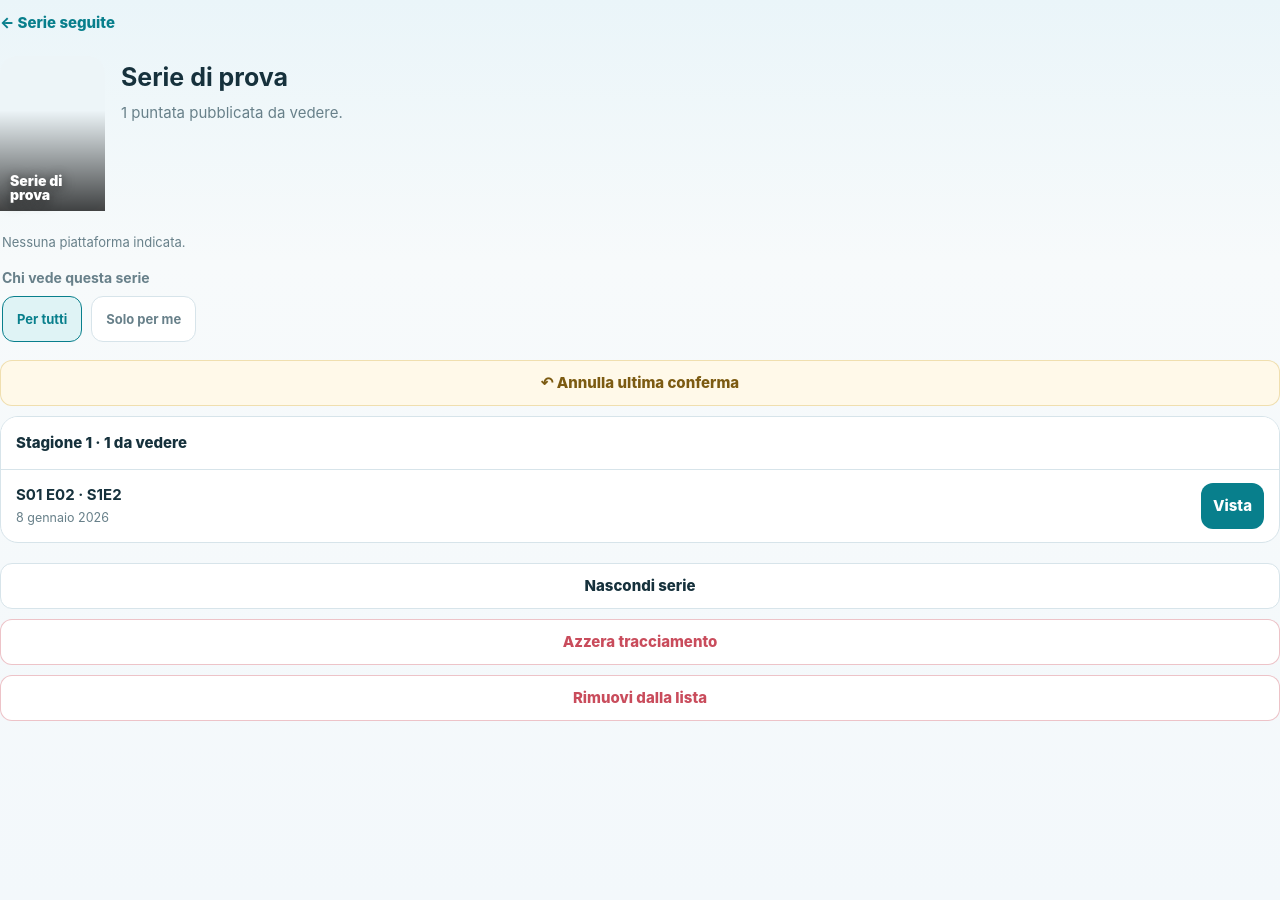
Test: ShowDetailView — conflitto di revisione sull'undo › mostra nel toast la reason del dominio, senza reinventare un messaggio
Click the button with class "undo" at coordinates (640, 383), box [0,360,1279,406]
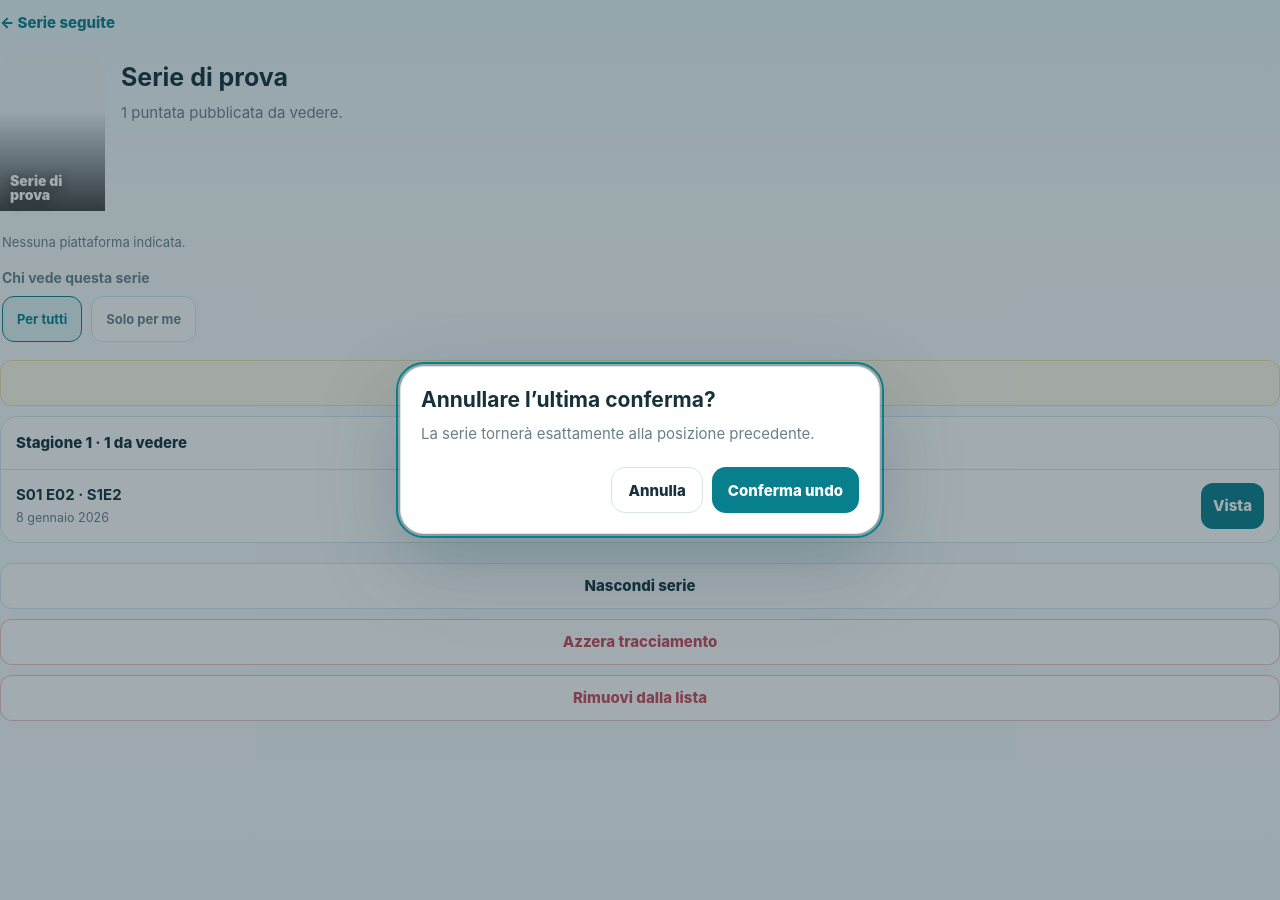
Click the button with class "accept-confirm" at coordinates (785, 490), box [712,468,859,514]
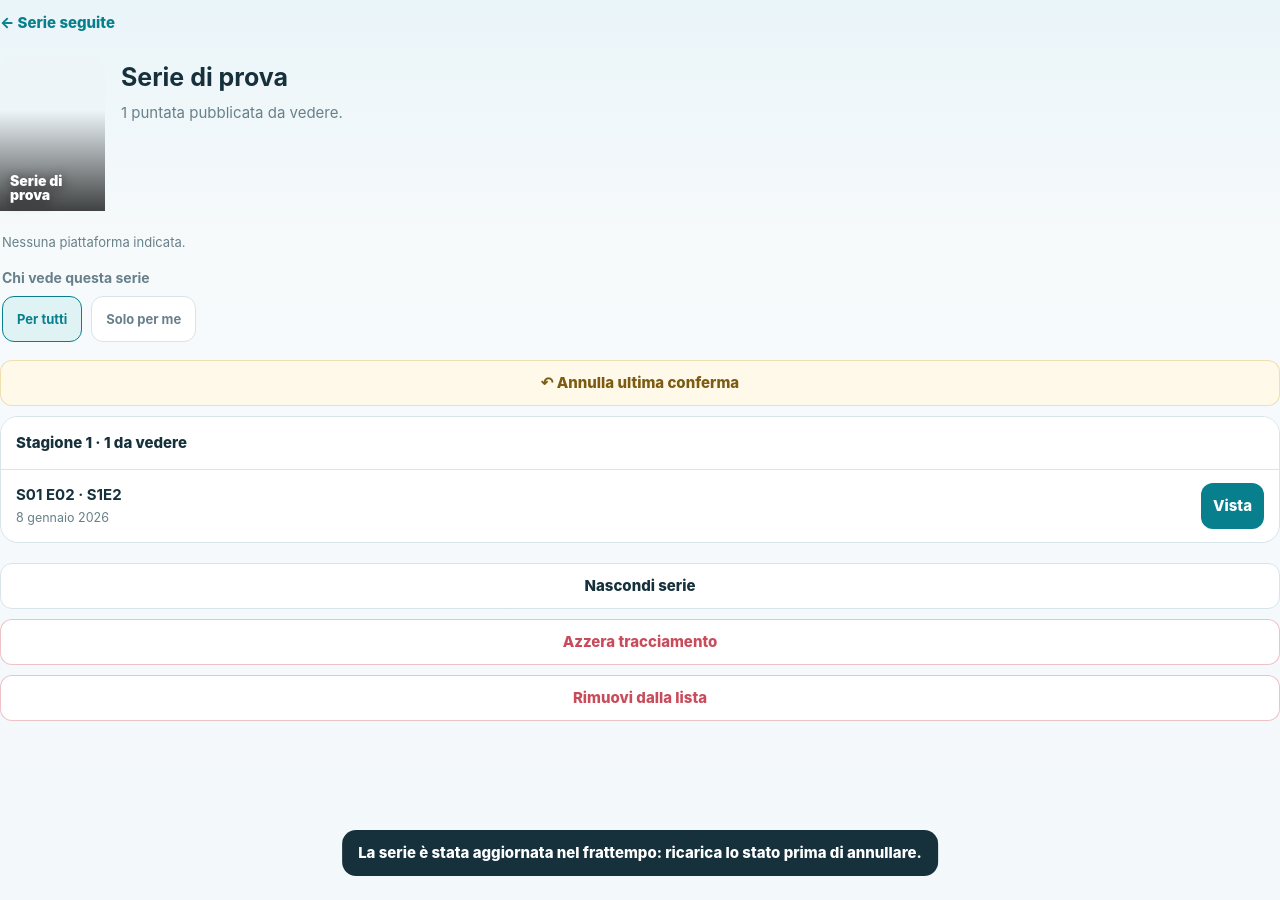
Check: the message with class "toast" reads "La serie è stata aggiornata nel frattempo: ricarica lo stato prima di annullare.", box [358,843,922,862]
